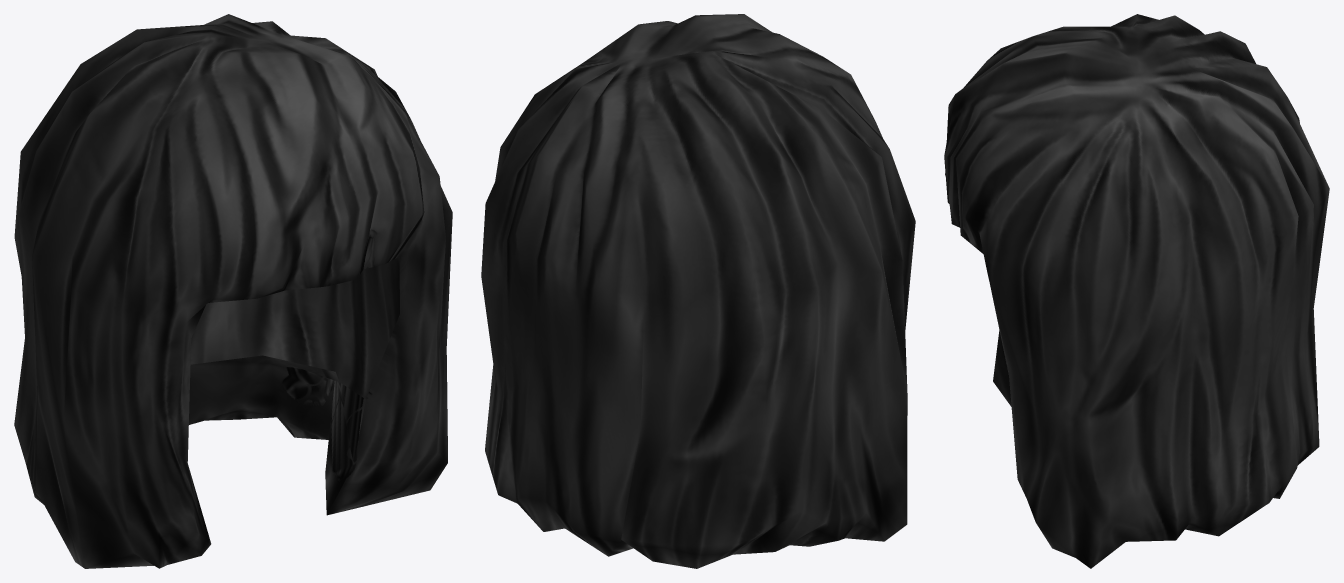
The model's file is AF_M_hair_G_22.fbx.
3 renders of one model, left to right at view 1: azimuth 30°, elevation 25°; view 2: azimuth 150°, elevation 25°; view 3: azimuth 270°, elevation 25°, orthographic. The views are drawn at different scales.
Visible parts, largest first — view 1: AF_M_hair_G_22; view 2: AF_M_hair_G_22; view 3: AF_M_hair_G_22.
Boxes of the visible parts, left/top/right/bottom form: AF_M_hair_G_22: left=14, top=14, right=452, bottom=568; AF_M_hair_G_22: left=481, top=14, right=915, bottom=568; AF_M_hair_G_22: left=944, top=14, right=1329, bottom=568.
Size of the model in its own units: 809 by 945 by 736.
